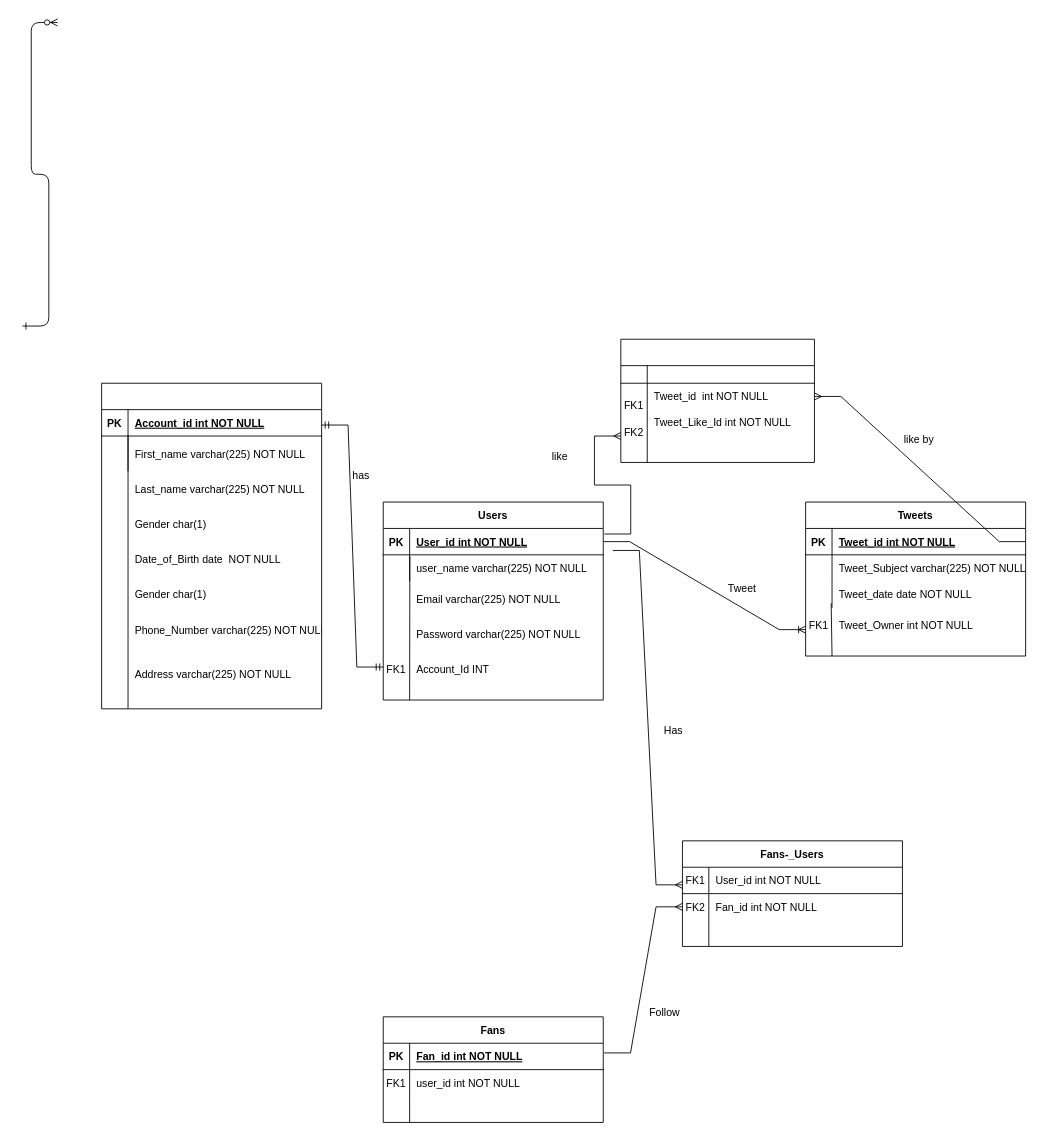
Some shapes in this 1048 by 1138 pixel diagram are drawn without their labels. The shapes that lost their labels are listed below. From the top down, each one's box as (x1, y1, x2, y2) in pixels, then its label:
(620, 338, 814, 462): Tweets_likes
(101, 382, 322, 709): Accounts
